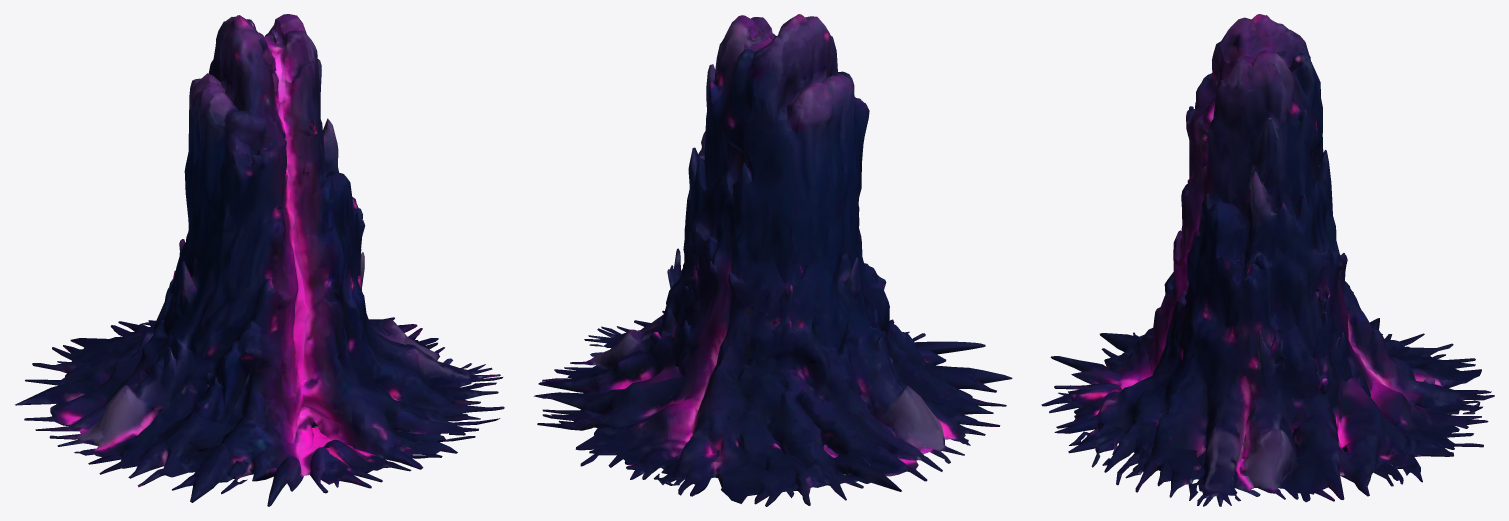
Rendered from root-south-generated-2026-04-19T05-48-05-767Z.low.glb.
The picture shows the model from 3 angles, left to right: view 1: azimuth 30°, elevation 25°; view 2: azimuth 150°, elevation 25°; view 3: azimuth 270°, elevation 25°; orthographic projection. The views are drawn at different scales.
Visible parts, largest first — view 1: temp_mesh.ply; view 2: temp_mesh.ply; view 3: temp_mesh.ply.
Boxes of the visible parts, bbox=[...] form: temp_mesh.ply: bbox=[15, 14, 504, 506]; temp_mesh.ply: bbox=[534, 14, 1012, 506]; temp_mesh.ply: bbox=[1041, 14, 1494, 506].
Size of the model in its own units: 1.97 by 1.83 by 1.96.
1 material, 1 textured.
